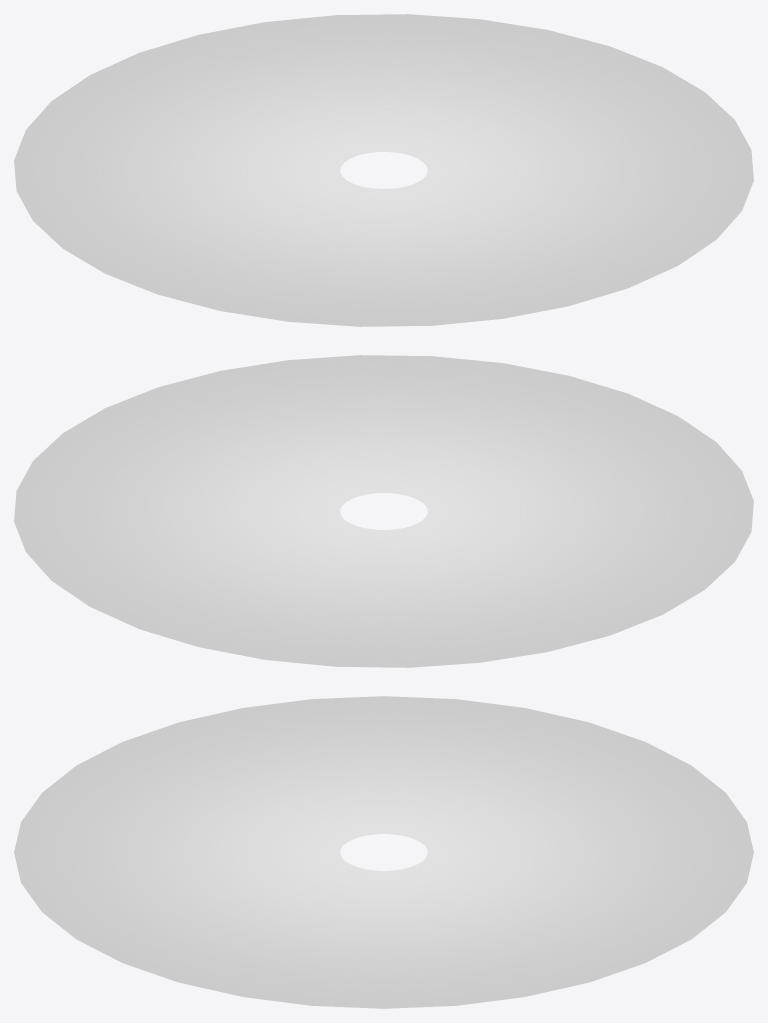
File: disc_01.glb
The picture shows the model from 3 angles, top to bottom: view 1: azimuth 30°, elevation 25°; view 2: azimuth 150°, elevation 25°; view 3: azimuth 270°, elevation 25°; orthographic projection.
Visible parts, largest first — view 1: disc; view 2: disc; view 3: disc.
Part boxes in pixels (box(x1,y1,x2,y2)): disc: box(14, 14, 753, 326); disc: box(14, 355, 753, 667); disc: box(14, 696, 753, 1008).
Bounding box in the file's own units: 11468 × 0 × 11468.
1 material, 1 textured.
